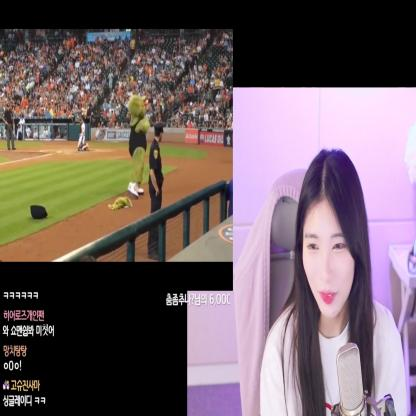donation: (0, 29, 235, 307)
streamer: (260, 149, 408, 416)
